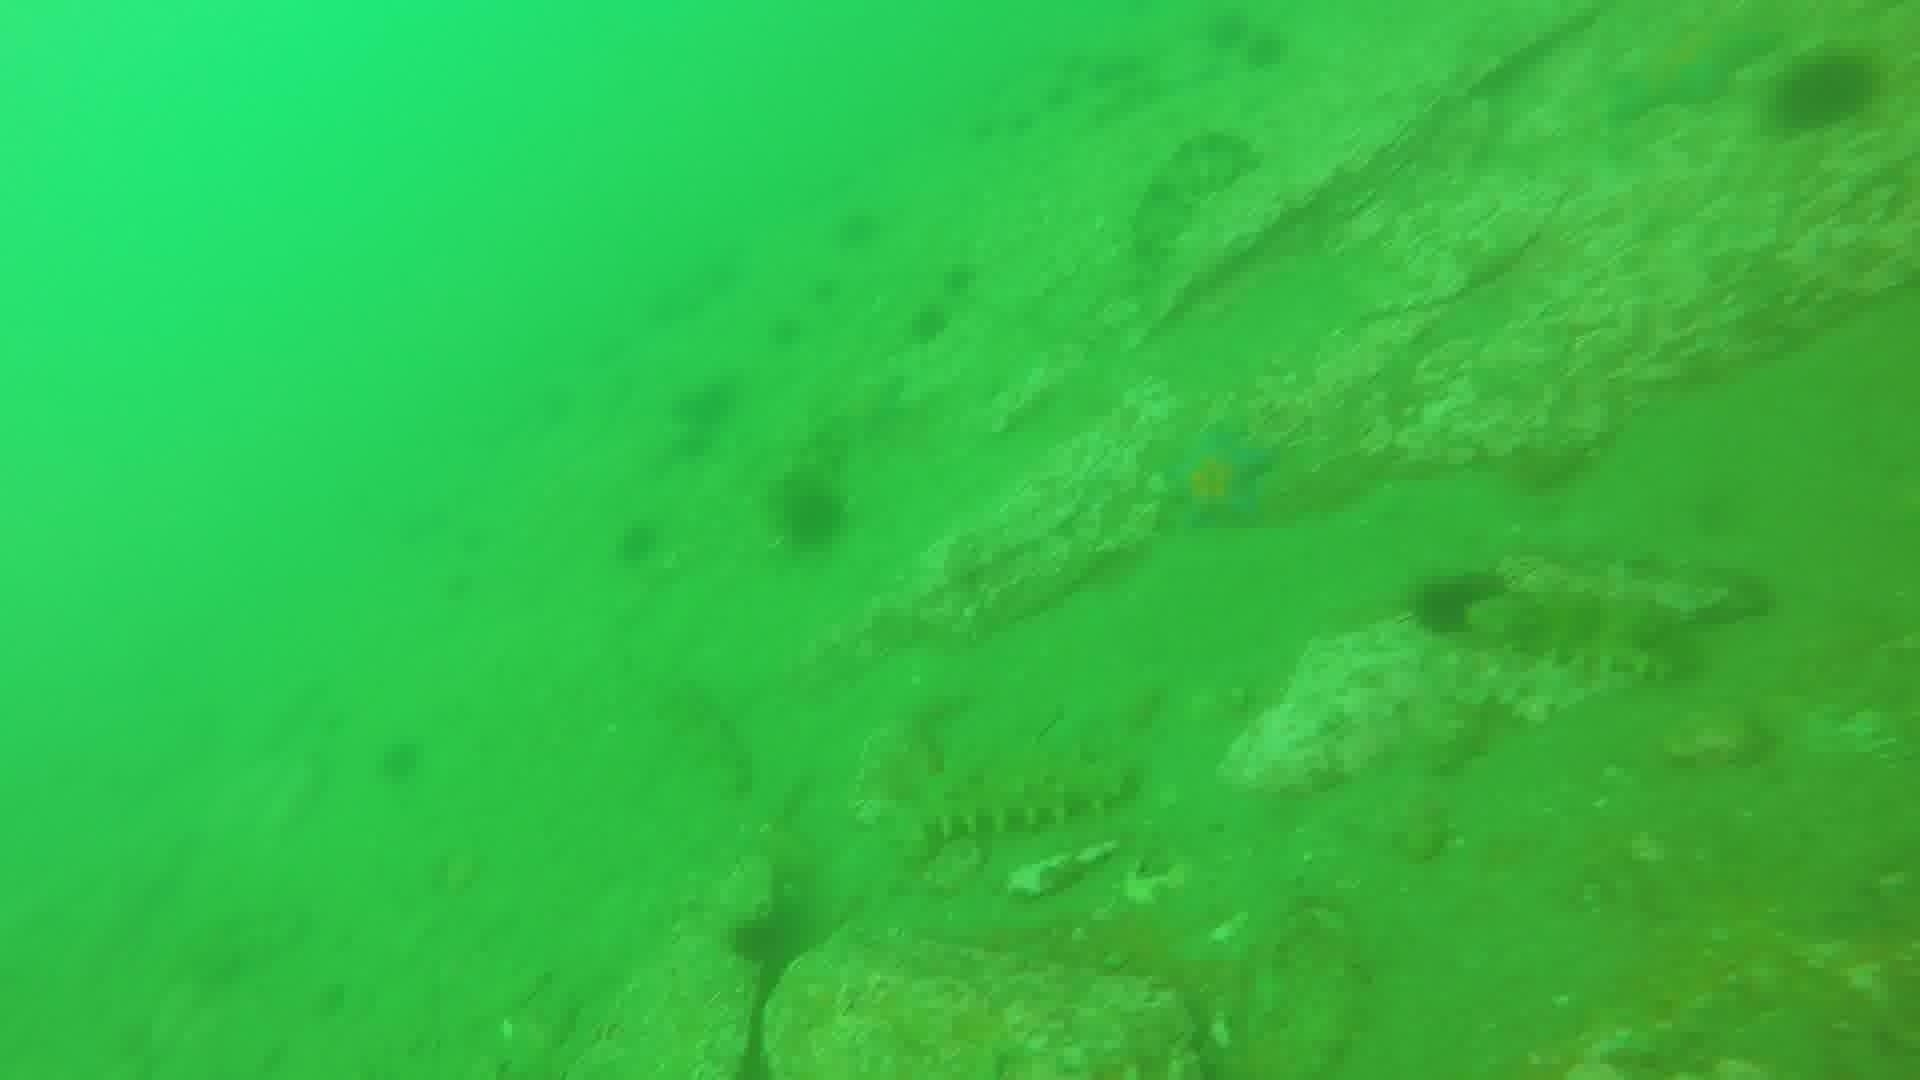echinus: (1768, 46, 1883, 138), (1404, 566, 1507, 641), (767, 471, 852, 555), (723, 905, 807, 978), (667, 373, 740, 442), (372, 733, 429, 789), (609, 516, 667, 570), (829, 202, 887, 253), (1081, 49, 1131, 98), (1036, 74, 1087, 123), (764, 307, 814, 355), (799, 269, 849, 316), (1241, 32, 1291, 79), (1182, 1, 1232, 49), (997, 96, 1047, 144), (967, 98, 1017, 145), (905, 301, 953, 348), (939, 258, 981, 301)
holothurian: (891, 746, 1141, 851), (1472, 583, 1706, 688)
starfish: (1604, 15, 1776, 124), (1153, 417, 1280, 535)
